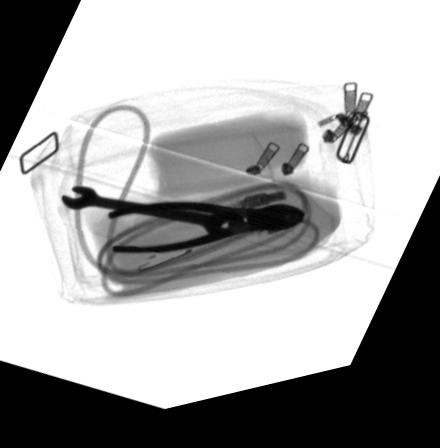Pliers: (106, 209, 306, 260)
Wrench: (58, 189, 241, 250)
